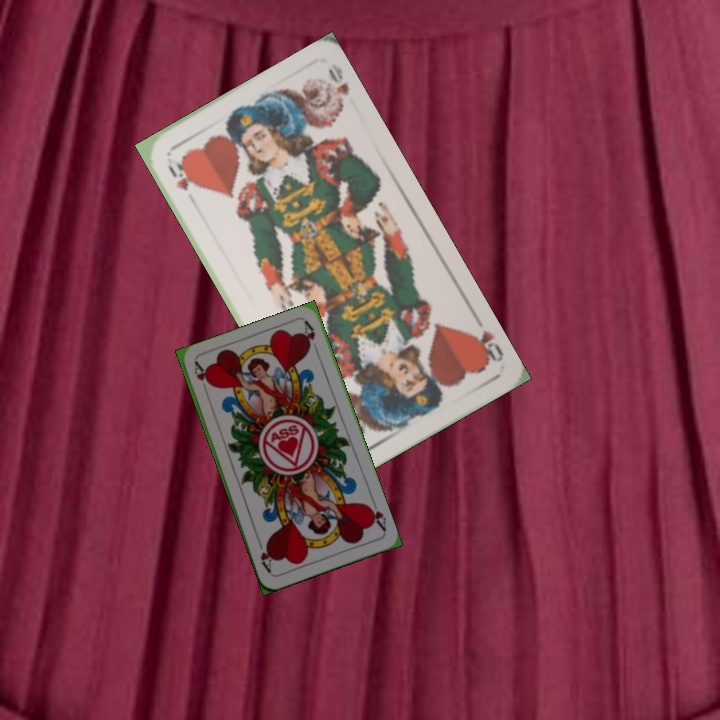HA: (362, 499, 389, 534), (190, 358, 211, 398)
HO: (464, 326, 507, 368), (163, 157, 195, 194)
